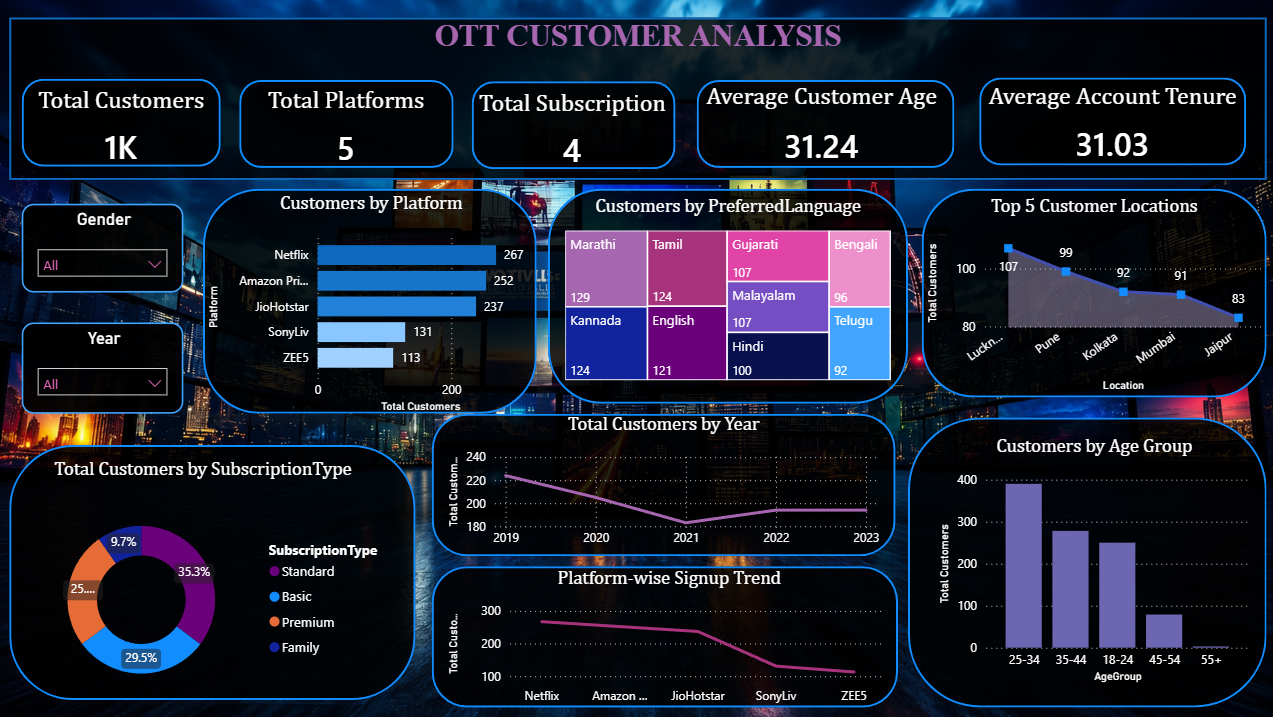

This screenshot's page, from the dashboard's own definition file:
{"tool":"powerbi","page":{"name":"Page 1","canvas":[1280,720],"ordinal":0},"visuals":[{"type":"shape","box":[11.2,17.5,1257.5,162.5],"z":0},{"type":"shape","box":[910,417.5,358.8,290],"z":1000},{"type":"shape","box":[240.6,80.2,214.4,87.9],"z":2000},{"type":"shape","box":[23.3,78.2,199,87.8],"z":3000},{"type":"cardVisual","title":"Total Customers","fields":{"Data":["DateTable.Total Customers"]},"box":[23.3,87.8,199,79.6],"z":4000},{"type":"cardVisual","title":"Total Platforms","fields":{"Data":["DateTable.Total Platforms"]},"box":[262.2,87.9,171.2,80.2],"z":5000},{"type":"shape","box":[981.2,77.5,266.9,87.9],"z":6000},{"type":"shape","box":[698.8,80,257.6,87.9],"z":7000},{"type":"shape","box":[473.6,81.8,203.6,87.9],"z":8000},{"type":"cardVisual","title":"Total Subscription","fields":{"Data":["DateTable.Total Subscription Plans"]},"box":[475.1,91,199,79.6],"z":9000},{"type":"cardVisual","title":"Average Customer Age","fields":{"Data":["DateTable.Average Customer Age"]},"box":[698.8,83.8,249.9,86.4],"z":10000},{"type":"cardVisual","title":"Average Account Tenure","fields":{"Data":["DateTable.Average Account Tenure"]},"box":[981.2,83.8,266.9,80.2],"z":11000},{"type":"shape","box":[205,188.8,333.8,225],"z":12000},{"type":"barChart","title":"Customers by Platform","fields":{"Category":["OTT_data.Platform"],"Y":["DateTable.Total Customers"]},"box":[205,192.5,336.2,225],"z":13000},{"type":"shape","box":[11.2,445,406.2,255],"z":14000},{"type":"shape","box":[433.8,413.8,463.8,142.5],"z":15000},{"type":"shape","box":[923.8,188.8,345,208.8],"z":16000},{"type":"shape","box":[550,188.8,360,215],"z":17000},{"type":"shape","box":[433.8,566.2,466.2,141.2],"z":18000},{"type":"columnChart","title":"Customers by Age Group","fields":{"Category":["OTT_data.AgeGroup"],"Y":["DateTable.Total Customers"]},"box":[936.2,436.2,320,251.2],"z":19000},{"type":"donutChart","fields":{"Category":["OTT_data.SubscriptionType"],"Y":["DateTable.Total Customers"]},"box":[11.2,458.8,387.5,252.5],"z":20000},{"type":"lineChart","title":"Platform-wise Signup Trend","fields":{"Y":["DateTable.Total Customers"],"Category":["OTT_data.Platform"]},"box":[445,567.5,452.5,143.8],"z":21000},{"type":"lineChart","fields":{"Category":["DateTable.Year"],"Y":["DateTable.Total Customers"]},"box":[445,413.8,441.2,142.5],"z":22000},{"type":"areaChart","title":"Top 5 Customer Locations","fields":{"Y":["DateTable.Total Customers"],"Category":["OTT_data.Location"]},"box":[923.8,196.2,345,200],"z":23000},{"type":"treemap","title":"Customers by PreferredLanguage","fields":{"Group":["OTT_data.PreferredLanguage"],"Values":["DateTable.Total Customers"]},"box":[562.5,196.2,335,188.8],"z":24000},{"type":"slicer","title":"Gender","fields":{"Values":["OTT_data.Gender"]},"box":[23.8,203.8,161.2,88.8],"z":25000},{"type":"slicer","title":"Year","fields":{"Values":["DateTable.Year"]},"box":[23.8,322.5,161.2,91.2],"z":26000}]}

Visuals, with their boxes in screenshot pixels (x1, y1, x2, y2), scaled from the page's 1280x720 canvas onto the 1273x717 screenshot:
shape: (11, 17, 1262, 179)
shape: (905, 416, 1262, 705)
shape: (239, 80, 453, 167)
shape: (23, 78, 221, 165)
"Total Customers" cardVisual: (23, 87, 221, 167)
"Total Platforms" cardVisual: (261, 88, 431, 167)
shape: (976, 77, 1241, 165)
shape: (695, 80, 951, 167)
shape: (471, 81, 673, 169)
"Total Subscription" cardVisual: (473, 91, 670, 170)
"Average Customer Age" cardVisual: (695, 83, 944, 169)
"Average Account Tenure" cardVisual: (976, 83, 1241, 163)
shape: (204, 188, 536, 412)
"Customers by Platform" barChart: (204, 192, 538, 416)
shape: (11, 443, 415, 697)
shape: (431, 412, 893, 554)
shape: (919, 188, 1262, 396)
shape: (547, 188, 905, 402)
shape: (431, 564, 895, 704)
"Customers by Age Group" columnChart: (931, 434, 1249, 685)
donutChart - OTT_data.SubscriptionType x DateTable.Total Customers: (11, 457, 397, 708)
"Platform-wise Signup Trend" lineChart: (443, 565, 893, 708)
lineChart - DateTable.Year x DateTable.Total Customers: (443, 412, 881, 554)
"Top 5 Customer Locations" areaChart: (919, 195, 1262, 395)
"Customers by PreferredLanguage" treemap: (559, 195, 893, 383)
"Gender" slicer: (24, 203, 184, 291)
"Year" slicer: (24, 321, 184, 412)
